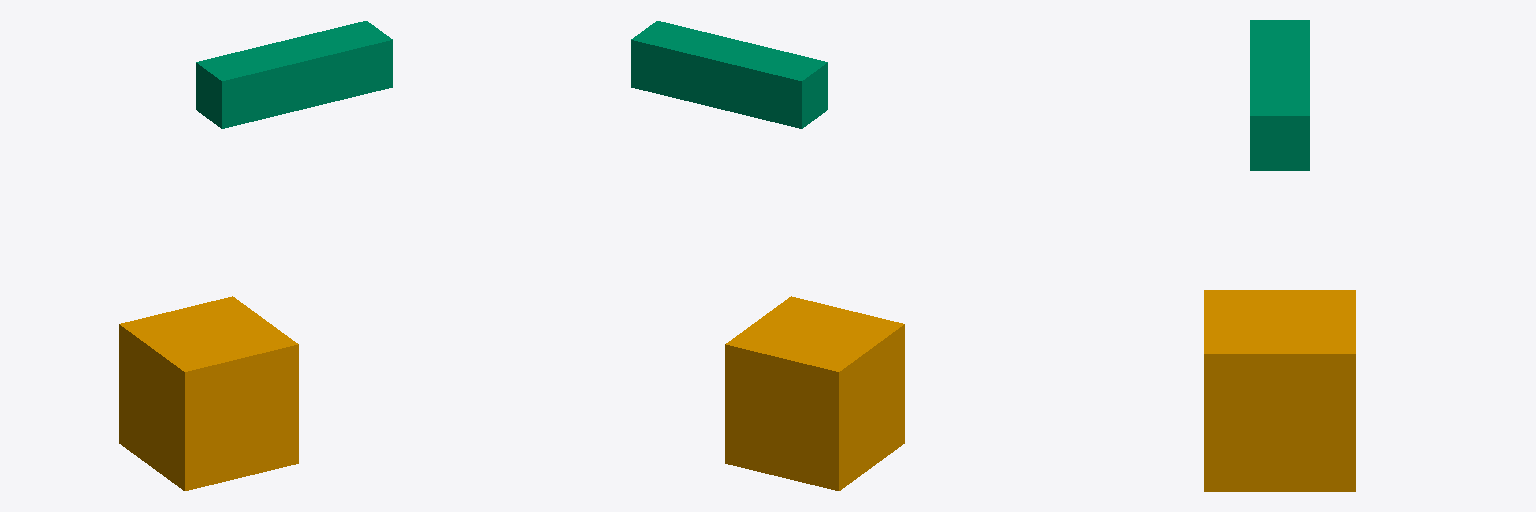
robot.urdf — Two-axis arm:
<?xml version="1.0"?>
<robot name="Two-axis arm">
  <link name="base">
    <inertial><mass value="3"/><inertia ixx=".05" ixy="0" ixz="0" iyy=".05" iyz="0" izz=".05"/></inertial>
    <visual><geometry><box size=".2 .2 .2"/></geometry></visual>
    <collision><geometry><box size=".2 .2 .2"/></geometry></collision>
  </link>
  <link name="upper">
    <inertial><origin xyz="0 0 .2"/><mass value="1"/><inertia ixx=".02" ixy="0" ixz="0" iyy=".02" iyz="0" izz=".005"/></inertial>
    <visual><origin xyz="0 0 .2"/><geometry><mesh filename="package://custom_robot/meshes/box.obj" scale=".1 .1 .4"/></geometry></visual>
    <collision><origin xyz="0 0 .2"/><geometry><box size=".1 .1 .4"/></geometry></collision>
  </link>
  <joint name="shoulder" type="revolute">
    <parent link="base"/><child link="upper"/><origin xyz="0 0 .1"/>
    <axis xyz="0 1 0"/><limit lower="-1.5" upper="1.5" effort="40" velocity="4"/>
    <dynamics damping=".3"/>
  </joint>
  <link name="forearm">
    <inertial><origin xyz=".15 0 0"/><mass value=".6"/><inertia ixx=".003" ixy="0" ixz="0" iyy=".01" iyz="0" izz=".01"/></inertial>
    <visual><origin xyz=".15 0 0"/><geometry><box size=".3 .08 .08"/></geometry></visual>
    <collision><origin xyz=".15 0 0"/><geometry><box size=".3 .08 .08"/></geometry></collision>
  </link>
  <joint name="elbow" type="revolute">
    <parent link="upper"/><child link="forearm"/><origin xyz="0 0 .4"/>
    <axis xyz="0 0 1"/><limit lower="-2" upper="2" effort="25" velocity="4"/>
    <dynamics damping=".2"/>
  </joint>
</robot>

--- Render facts (derived) ---
Views: 3 orthographic renders of the robot side by side, from view 1: azimuth 30°, elevation 25°; view 2: azimuth 150°, elevation 25°; view 3: azimuth 270°, elevation 25°.
Robot: Two-axis arm — 3 links, 2 joints (2 revolute); root link base; default pose: all joints at 0.
Links seen in each view (by area): view 1: base, forearm; view 2: base, forearm; view 3: base, forearm.
Link boxes in pixels (bbox=[...]): base: bbox=[119, 296, 298, 490]; forearm: bbox=[196, 21, 392, 128]; base: bbox=[725, 296, 904, 490]; forearm: bbox=[631, 21, 827, 128]; base: bbox=[1204, 290, 1355, 491]; forearm: bbox=[1250, 20, 1309, 170].
Bounding box of the posed robot: 0.4 × 0.2 × 0.64 m (x, y, z).
Meshes: 1 distinct files referenced, 0 mesh visuals loaded (none loaded); not drawn: 1 (reference not matched to a file when rendering).
